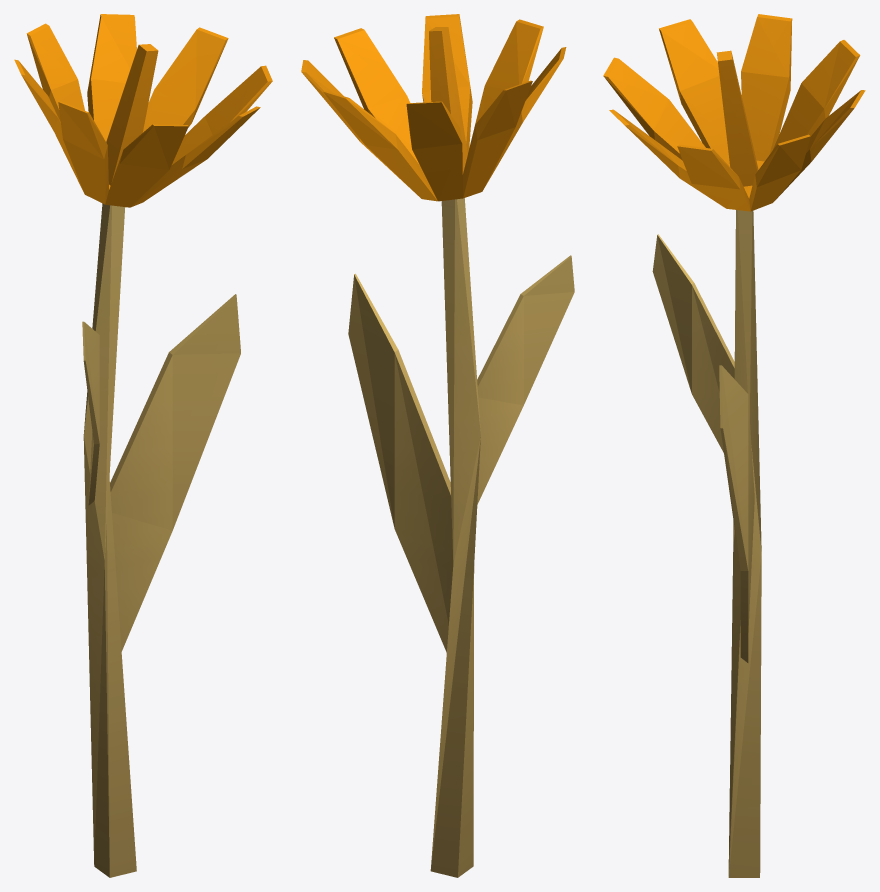
File: flower_lily.glb
3 renders of one model, left to right at view 1: azimuth 30°, elevation 25°; view 2: azimuth 150°, elevation 25°; view 3: azimuth 270°, elevation 25°, orthographic.
Visible parts, largest first — view 1: flower_lily; view 2: flower_lily; view 3: flower_lily.
Boxes of the visible parts, <box> form: flower_lily: <box>14,14,272,877</box>; flower_lily: <box>301,14,574,877</box>; flower_lily: <box>603,14,865,877</box>.
Size of the model in its own units: 0.1546 by 0.55 by 0.1579.
Materials: 1 (1 with a texture image).
